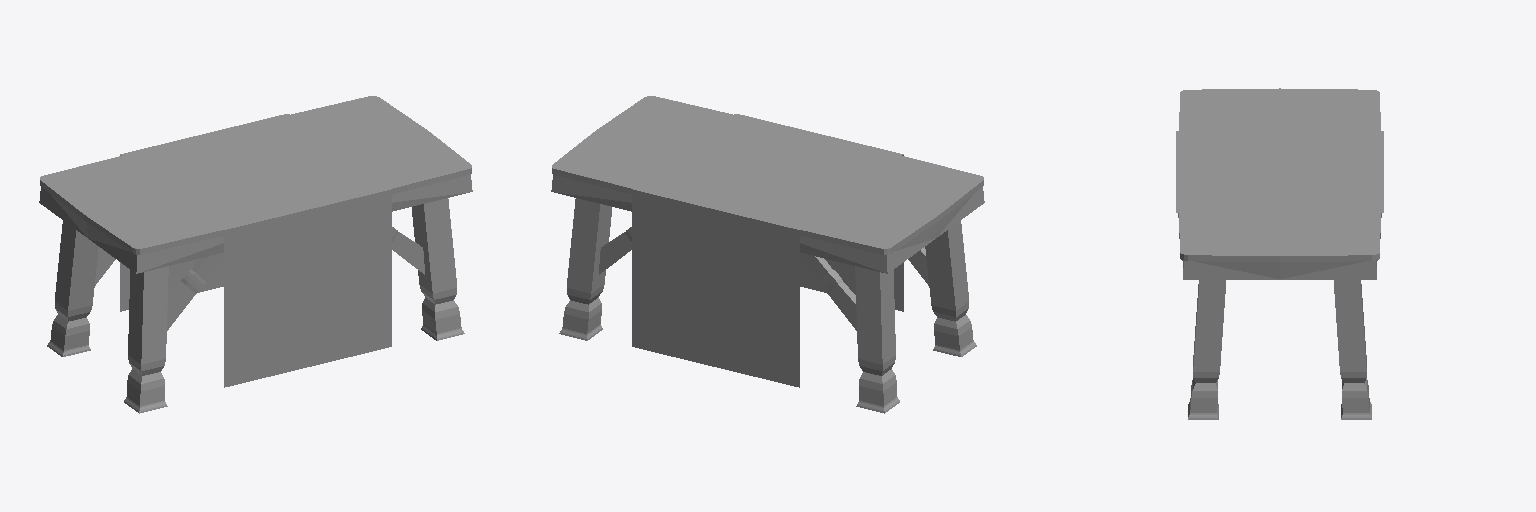
Rendered from magicians_worktable.obj.
3 views of the same model, side by side, from view 1: azimuth 30°, elevation 25°; view 2: azimuth 150°, elevation 25°; view 3: azimuth 270°, elevation 25° (orthographic).
Parts seen in each view (by area): view 1: Plane.008_Plane.014, Plane.009_Plane.015, Cube.051_Cube.066, Cube.052_Cube.067, Cube.019_Cube.058, Cube.018_Cube.057, Cube.013_Cube.052, Plane.007_Plane.013, Cube.049_Cube.064, Cube.008_Cube.047, Cube.046_Cube.061; view 2: Plane.007_Plane.013, Plane.009_Plane.015, Cube.051_Cube.066, Cube.052_Cube.067, Cube.017_Cube.056, Cube.018_Cube.057, Cube.015_Cube.054, Plane.008_Plane.014, Cube.047_Cube.062, Cube.011_Cube.050, Cube.046_Cube.061; view 3: Plane.009_Plane.015, Cube.051_Cube.066, Cube.052_Cube.067, Cube.016_Cube.055, Cube.048_Cube.063.
Boxes of the visible parts, x1=… form: Plane.008_Plane.014: x1=224, y1=189, x2=391, y2=387; Plane.009_Plane.015: x1=120, y1=114, x2=390, y2=229; Cube.051_Cube.066: x1=40, y1=96, x2=471, y2=248; Cube.052_Cube.067: x1=47, y1=198, x2=464, y2=413; Cube.019_Cube.058: x1=136, y1=175, x2=472, y2=273; Cube.018_Cube.057: x1=39, y1=187, x2=136, y2=272; Cube.013_Cube.052: x1=167, y1=253, x2=223, y2=330; Plane.007_Plane.013: x1=120, y1=155, x2=223, y2=311; Cube.049_Cube.064: x1=136, y1=168, x2=471, y2=254; Cube.008_Cube.047: x1=392, y1=227, x2=424, y2=274; Cube.046_Cube.061: x1=40, y1=180, x2=135, y2=254; Plane.007_Plane.013: x1=632, y1=189, x2=799, y2=387; Plane.009_Plane.015: x1=633, y1=114, x2=903, y2=229; Cube.051_Cube.066: x1=552, y1=96, x2=983, y2=248; Cube.052_Cube.067: x1=559, y1=198, x2=976, y2=413; Cube.017_Cube.056: x1=551, y1=175, x2=887, y2=273; Cube.018_Cube.057: x1=887, y1=187, x2=984, y2=272; Cube.015_Cube.054: x1=800, y1=253, x2=856, y2=330; Plane.008_Plane.014: x1=800, y1=155, x2=903, y2=311; Cube.047_Cube.062: x1=552, y1=168, x2=887, y2=254; Cube.011_Cube.050: x1=599, y1=227, x2=631, y2=274; Cube.046_Cube.061: x1=888, y1=180, x2=983, y2=254; Plane.009_Plane.015: x1=1176, y1=131, x2=1383, y2=212; Cube.051_Cube.066: x1=1179, y1=88, x2=1380, y2=255; Cube.052_Cube.067: x1=1188, y1=280, x2=1371, y2=419; Cube.016_Cube.055: x1=1183, y1=261, x2=1376, y2=279; Cube.048_Cube.063: x1=1184, y1=255, x2=1375, y2=261.
Size of the model in its own units: 1.88 by 0.8775 by 0.9811.